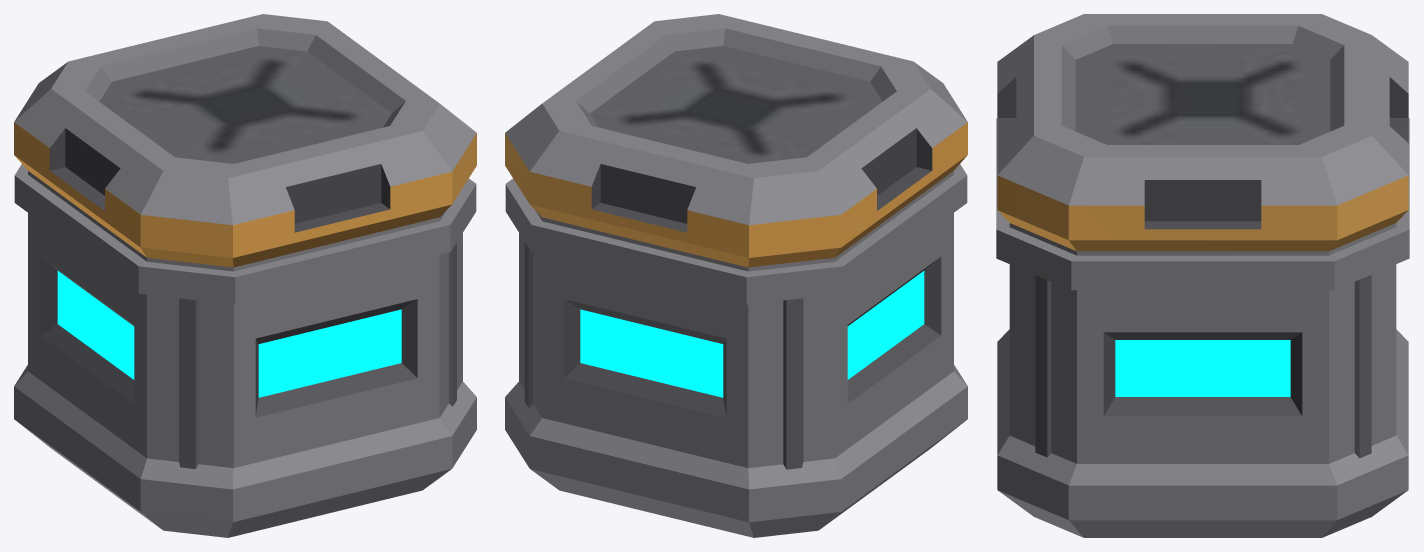
File: entity126522.glb
The picture shows the model from 3 angles, left to right: view 1: azimuth 30°, elevation 25°; view 2: azimuth 150°, elevation 25°; view 3: azimuth 270°, elevation 25°; orthographic projection. The views are drawn at different scales.
Visible parts, largest first — view 1: node_SM_Prop_Crate_01; view 2: node_SM_Prop_Crate_01; view 3: node_SM_Prop_Crate_01.
Part boxes in pixels (bbox=[...]): node_SM_Prop_Crate_01: bbox=[14, 14, 476, 537]; node_SM_Prop_Crate_01: bbox=[505, 14, 967, 537]; node_SM_Prop_Crate_01: bbox=[996, 14, 1409, 537].
Bounding box in the file's own units: 1.12 × 1.14 × 1.12.
1 material, 1 textured.
